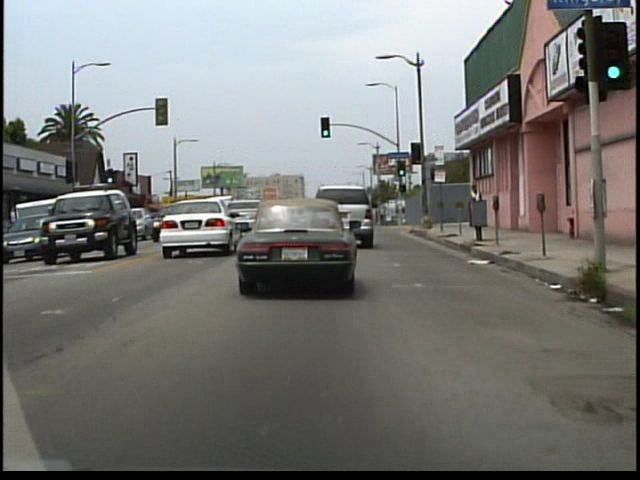person: (468, 183, 486, 231)
